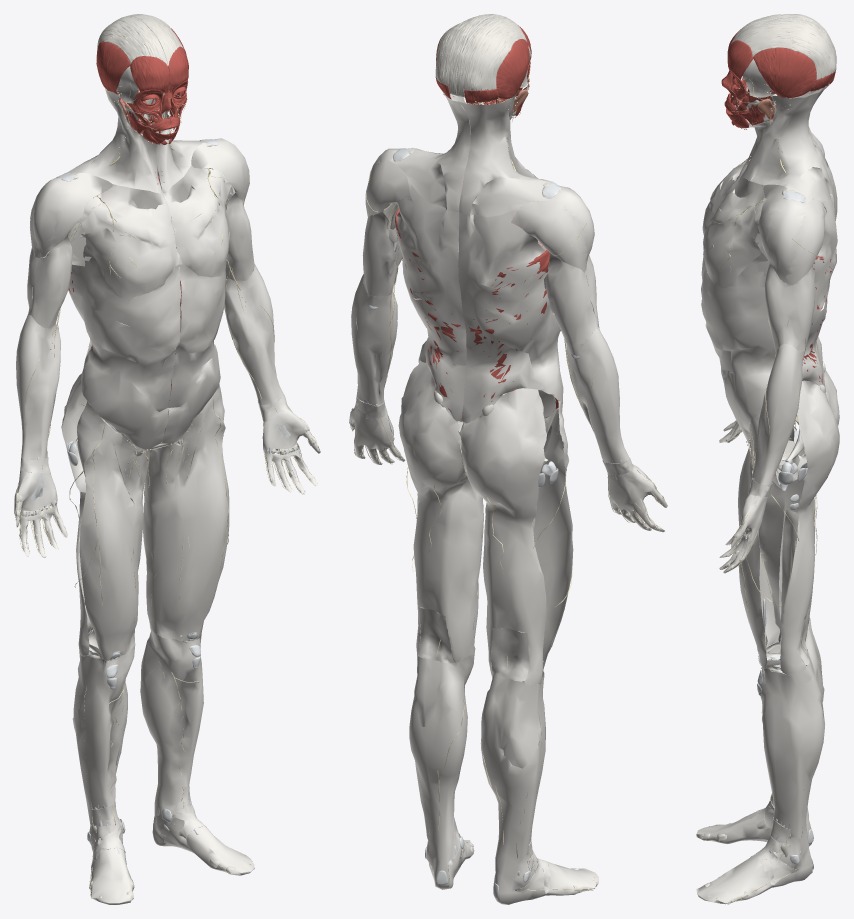
Rendered from body-za.glb.
3 views of the same model, side by side, from view 1: azimuth 30°, elevation 25°; view 2: azimuth 150°, elevation 25°; view 3: azimuth 270°, elevation 25° (orthographic). The views are drawn at different scales.
Visible parts, largest first — view 1: ZB0276, ZB0277, ZB0398, ZB0198, ZB0199, ZB0602, ZB0397, ZB0601, ZB0037, ZB0036, ZB0224, ZB0835 (+11 smaller); view 2: ZB0277, ZB0398, ZB0276, ZB0199, ZB0397, ZB0198, ZB0835, ZB0037, ZB0036, ZB0224, ZB0834, ZB0135 (+11 smaller); view 3: ZB0198, ZB0276, ZB0397, ZB0834, ZB0223, ZB0601, ZB0036, ZB0134, ZA0015, ZA0049, ZB0471, ZB0199 (+12 smaller).
Boxes of the visible parts, x1,y1,x2,y2 form: ZB0276: (141,384,229,641); ZB0277: (61,373,152,660); ZB0398: (68,244,181,449); ZB0198: (140,626,254,875); ZB0199: (72,645,135,904); ZB0602: (77,184,178,298); ZB0397: (161,264,225,443); ZB0601: (163,165,231,277); ZB0037: (16,315,60,459); ZB0036: (224,263,283,405); ZB0224: (29,173,112,257); ZB0835: (67,88,162,193); ZB0277: (460,388,573,685); ZB0398: (458,206,563,424); ZB0276: (398,361,483,662); ZB0199: (481,665,598,904); ZB0397: (392,177,466,423); ZB0198: (409,652,474,889); ZB0835: (459,90,554,216); ZB0037: (565,327,629,463); ZB0036: (351,273,397,405); ZB0224: (511,175,594,271); ZB0834: (391,94,470,212); ZB0135: (544,253,599,344); ZB0198: (696,645,825,904); ZB0276: (738,380,839,674); ZB0397: (701,193,837,441); ZB0834: (740,84,831,203); ZB0223: (758,184,826,285); ZB0601: (703,177,764,287); ZB0036: (752,343,805,484); ZB0134: (764,260,815,352); ZA0015: (731,18,836,79); ZA0049: (753,47,816,98); ZB0471: (751,439,784,628); ZB0199: (696,618,824,845).
Size of the model in its own units: 0.6497 by 1.71 by 0.2621.
